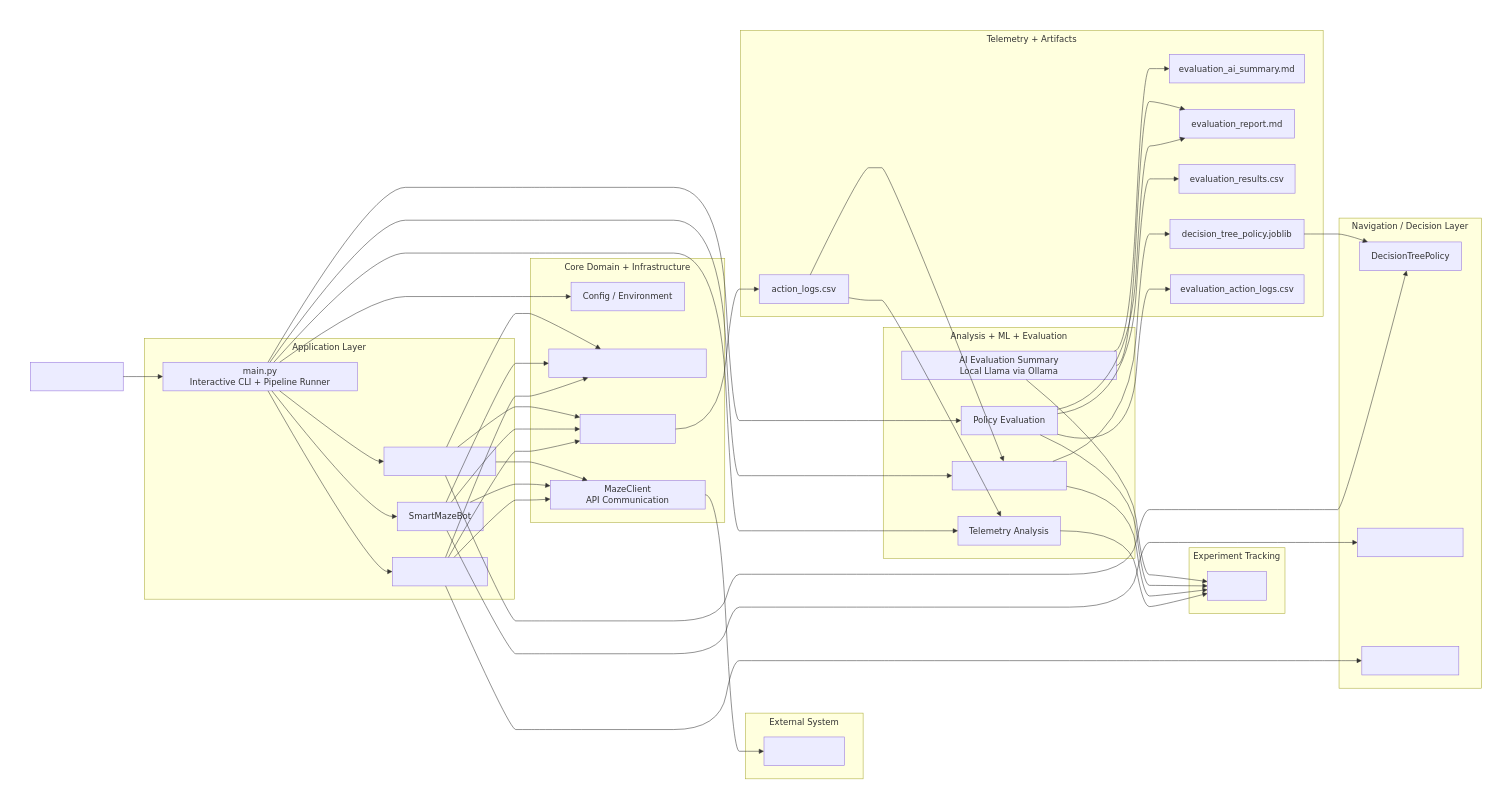
This 1491x788 diagram has some shape labels left out. Here are the shapes that lost their labels. From the top down, the centre of each, then its label:
the point at 76,376: Player
the point at 627,363: Models MazeState / MoveAction
the point at 627,428: TelemetryLogger
the point at 439,461: DecisionTreeMazeBot
the point at 1009,475: Decision Tree Training
the point at 1410,542: RewardAwarePolicy
the point at 439,571: BaselineMazeBot
the point at 1236,585: MLflow
the point at 1410,660: BaselineDfsPolicy
the point at 804,751: HTI Maze API
